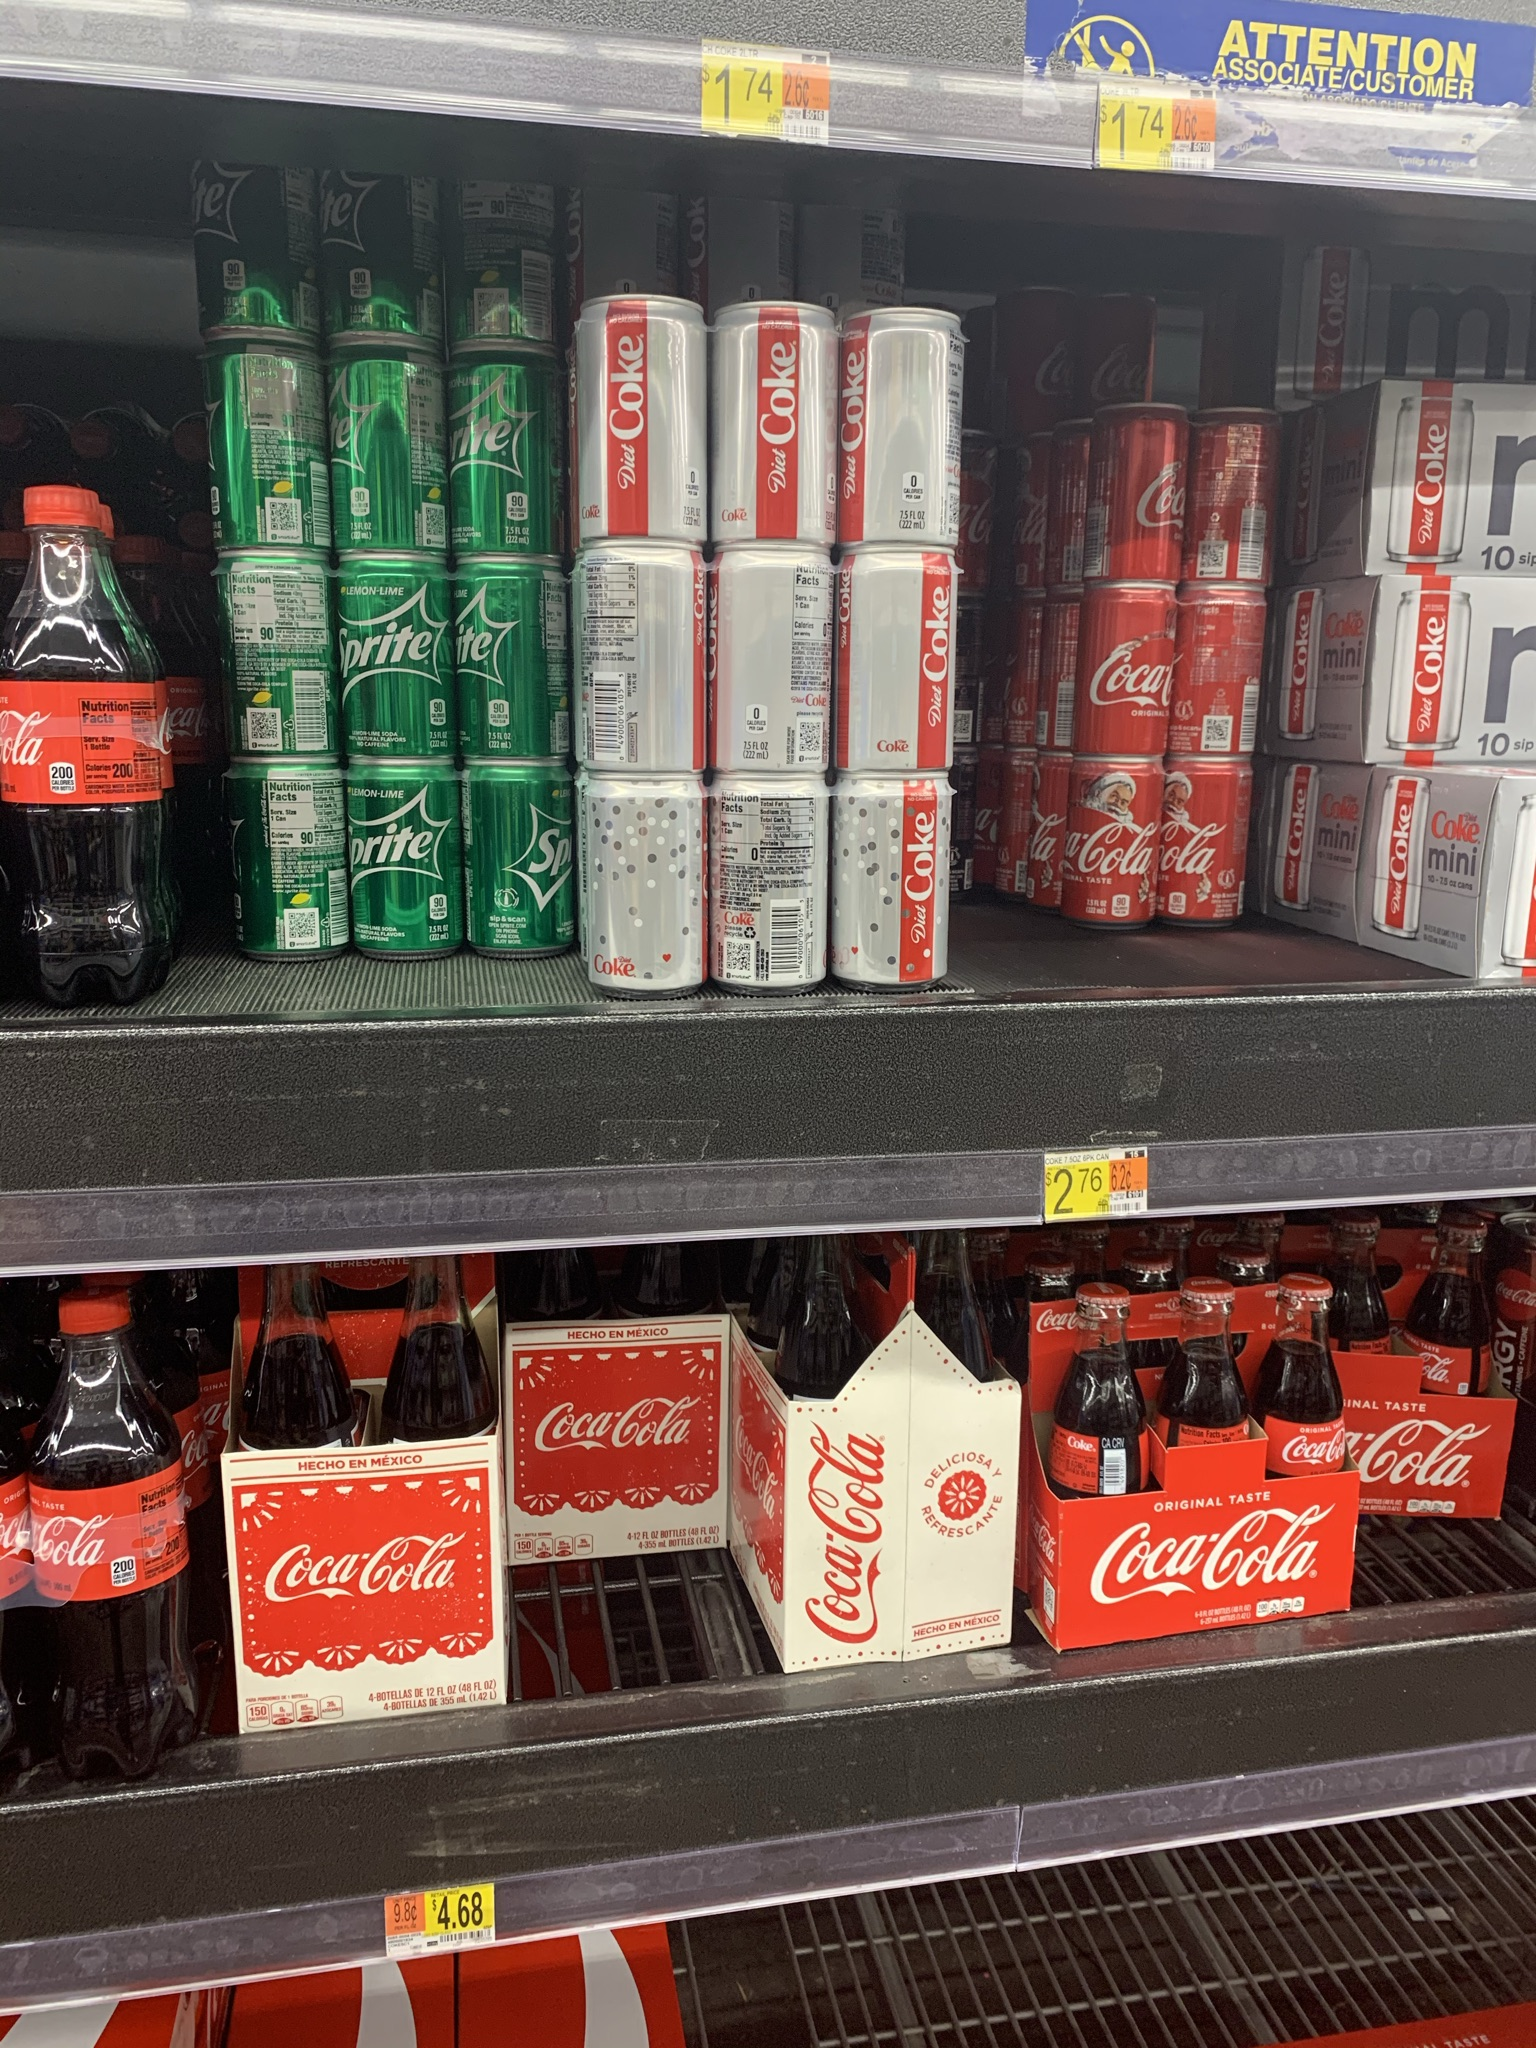box: (1373, 374, 1536, 568), (1363, 581, 1536, 761), (1379, 792, 1534, 953)
can: (587, 321, 691, 532), (857, 319, 950, 534), (728, 561, 824, 768), (597, 789, 699, 980), (733, 318, 821, 535), (453, 374, 557, 543), (345, 364, 444, 540), (724, 800, 824, 972), (849, 789, 942, 968), (857, 564, 942, 760), (224, 356, 315, 539), (248, 776, 339, 951), (358, 769, 449, 942), (357, 574, 450, 740), (473, 777, 566, 940), (237, 572, 323, 748), (474, 576, 558, 751), (1099, 419, 1186, 572), (1094, 608, 1170, 751), (1171, 772, 1241, 922), (1079, 777, 1149, 914), (1191, 597, 1254, 742), (1207, 435, 1275, 568)
